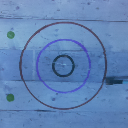Axe Tip: (104, 76, 116, 79)
